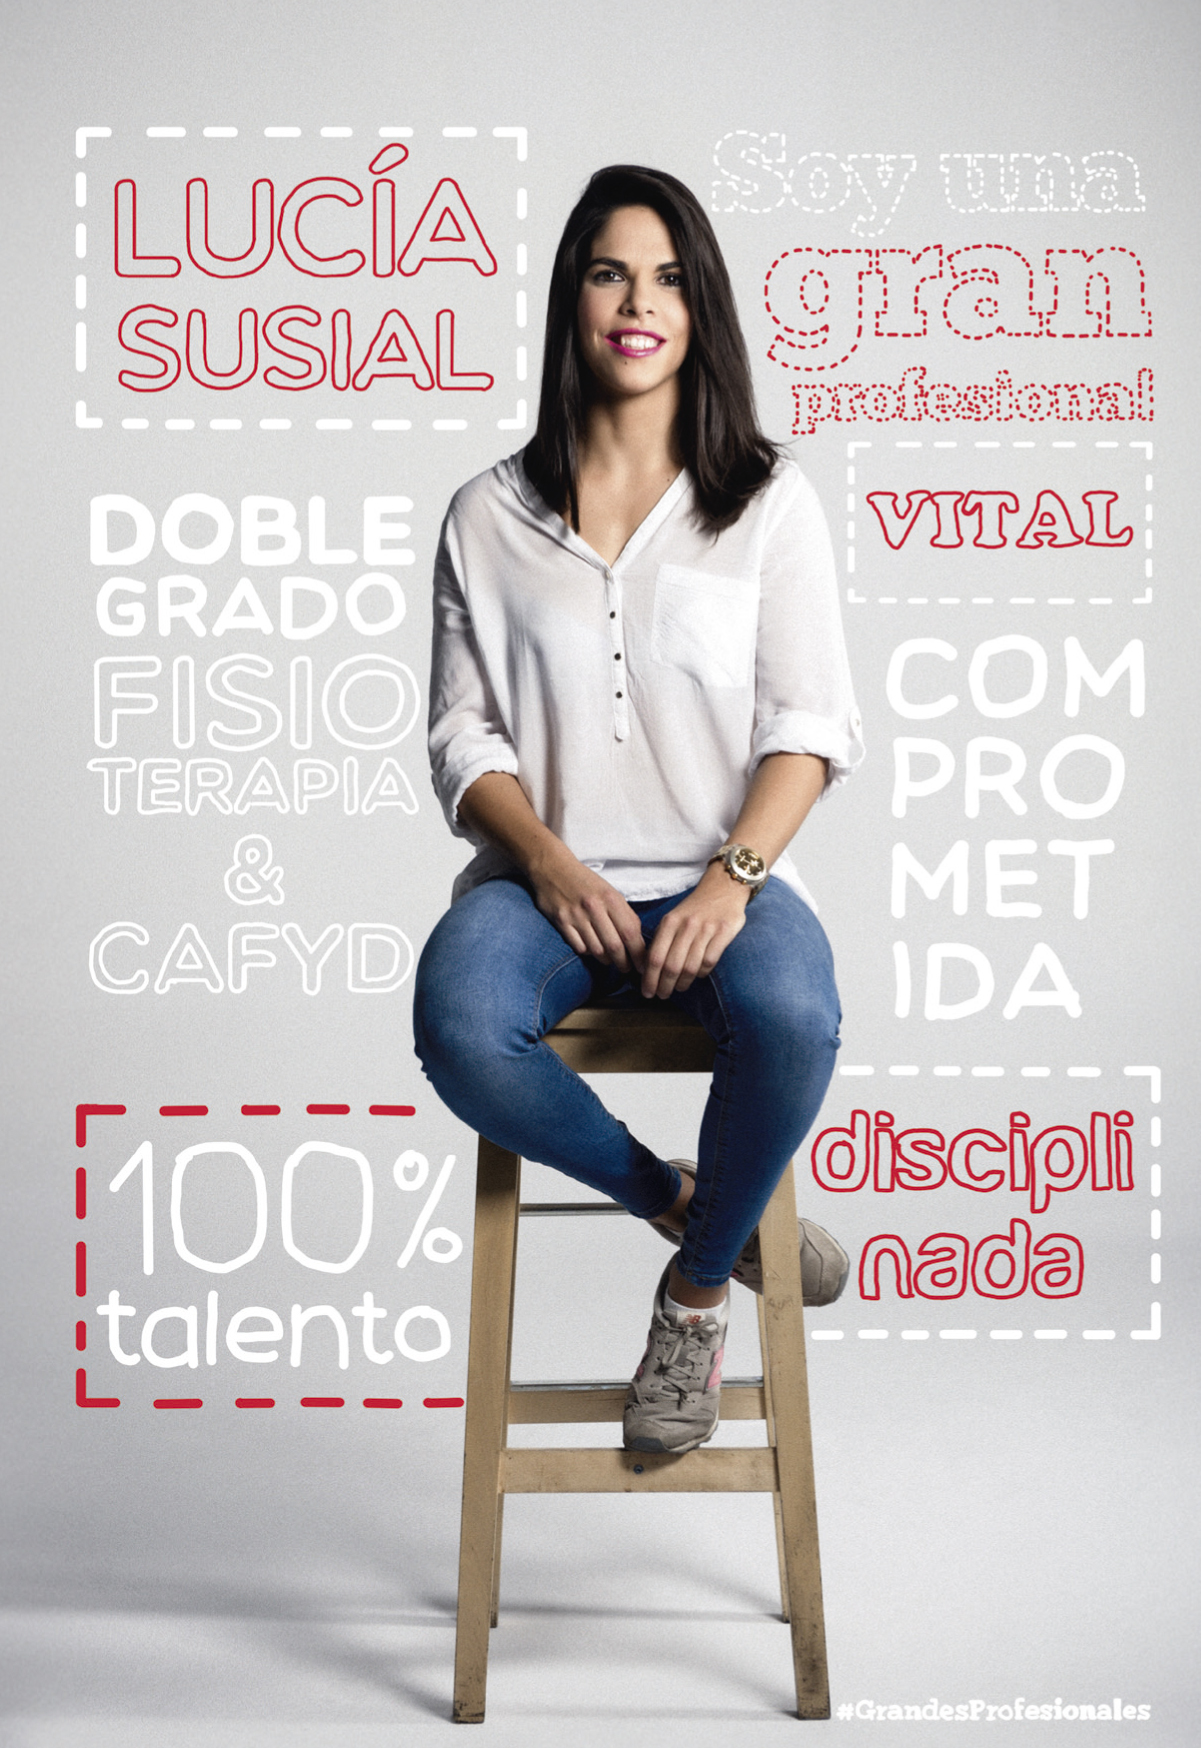person: (386, 163, 888, 904)
